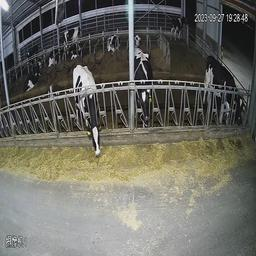cow: (201, 49, 246, 131), (73, 61, 104, 151), (134, 43, 159, 124), (167, 10, 192, 46), (20, 62, 44, 91), (103, 28, 121, 55), (59, 24, 83, 42), (50, 48, 63, 69)
